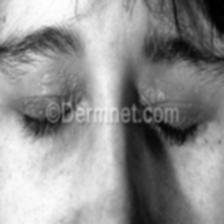Non-Cancerous Skin Condition: (0, 59, 97, 97), (190, 82, 224, 158), (8, 103, 46, 149), (129, 70, 175, 104)
